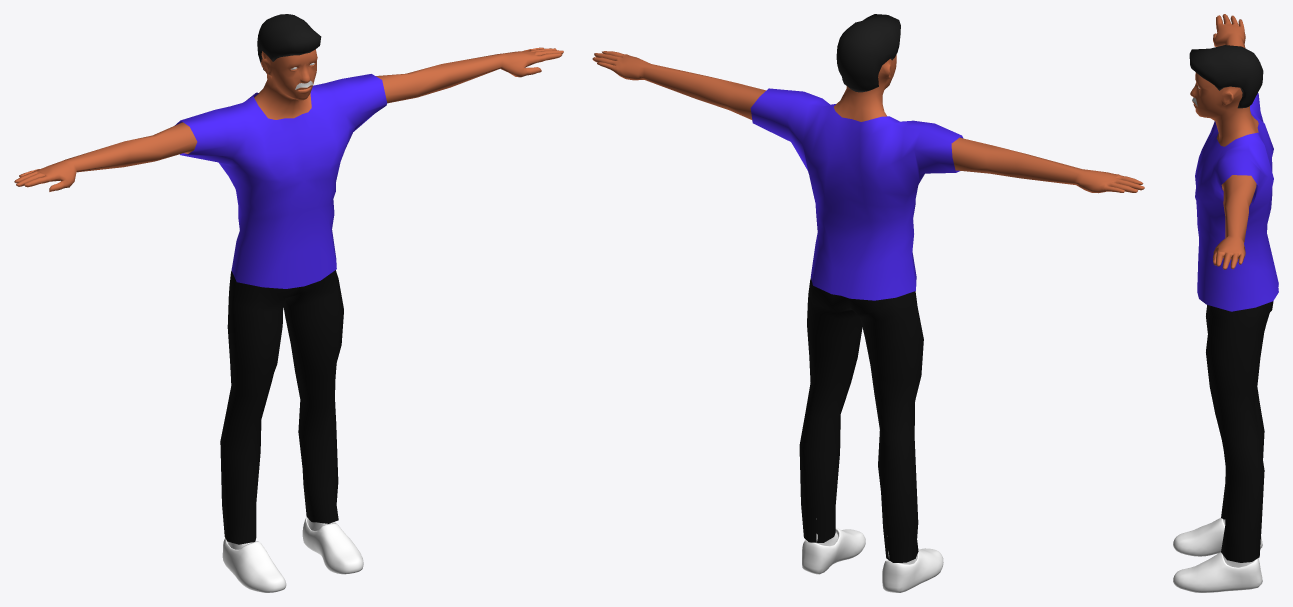
File: Man 11.obj
3 renders of one model, left to right at view 1: azimuth 30°, elevation 25°; view 2: azimuth 150°, elevation 25°; view 3: azimuth 270°, elevation 25°, orthographic. The views are drawn at different scales.
Visible parts, largest first — view 1: Human:Male1591.001, Human:Male1591.002, Human:Male1591, Human:Shoes05, Human:Male1591.003_Human:Male1591.005; view 2: Human:Male1591.001, Human:Male1591.002, Human:Male1591, Human:Shoes05, Human:Male1591.003_Human:Male1591.005; view 3: Human:Male1591.002, Human:Male1591.001, Human:Male1591, Human:Shoes05, Human:Male1591.003_Human:Male1591.005.
Boxes of the visible parts, x1,y1,x2,y2 form: Human:Male1591.001: [174, 74, 387, 288]; Human:Male1591.002: [220, 270, 343, 544]; Human:Male1591: [14, 47, 563, 191]; Human:Shoes05: [222, 517, 363, 592]; Human:Male1591.003_Human:Male1591.005: [257, 14, 321, 73]; Human:Male1591.001: [750, 88, 963, 300]; Human:Male1591.002: [799, 278, 923, 562]; Human:Male1591: [592, 51, 1144, 193]; Human:Shoes05: [802, 518, 943, 592]; Human:Male1591.003_Human:Male1591.005: [836, 14, 900, 92]; Human:Male1591.002: [1206, 301, 1273, 562]; Human:Male1591.001: [1195, 93, 1278, 311]; Human:Male1591: [1190, 14, 1258, 269]; Human:Shoes05: [1173, 518, 1262, 592]; Human:Male1591.003_Human:Male1591.005: [1189, 45, 1263, 108].
Size of the model in its own units: 19.93 by 19.06 by 3.51.
